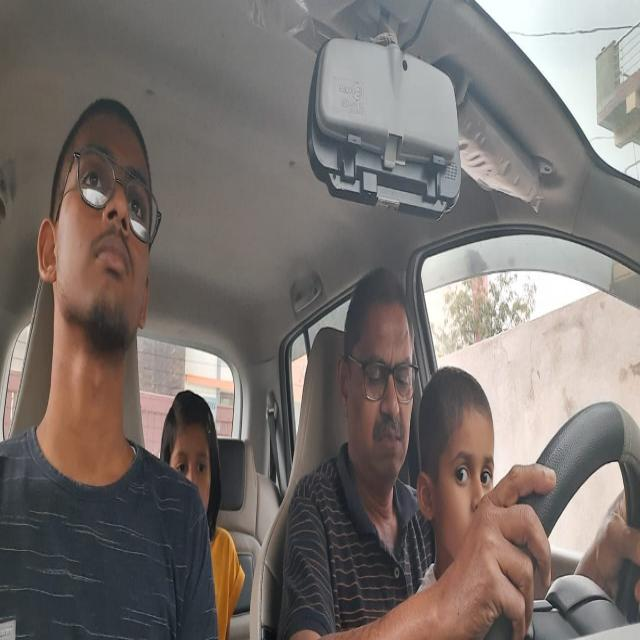child: (419, 365, 504, 558)
person: (36, 80, 166, 376), (336, 247, 421, 485), (159, 382, 223, 518)
